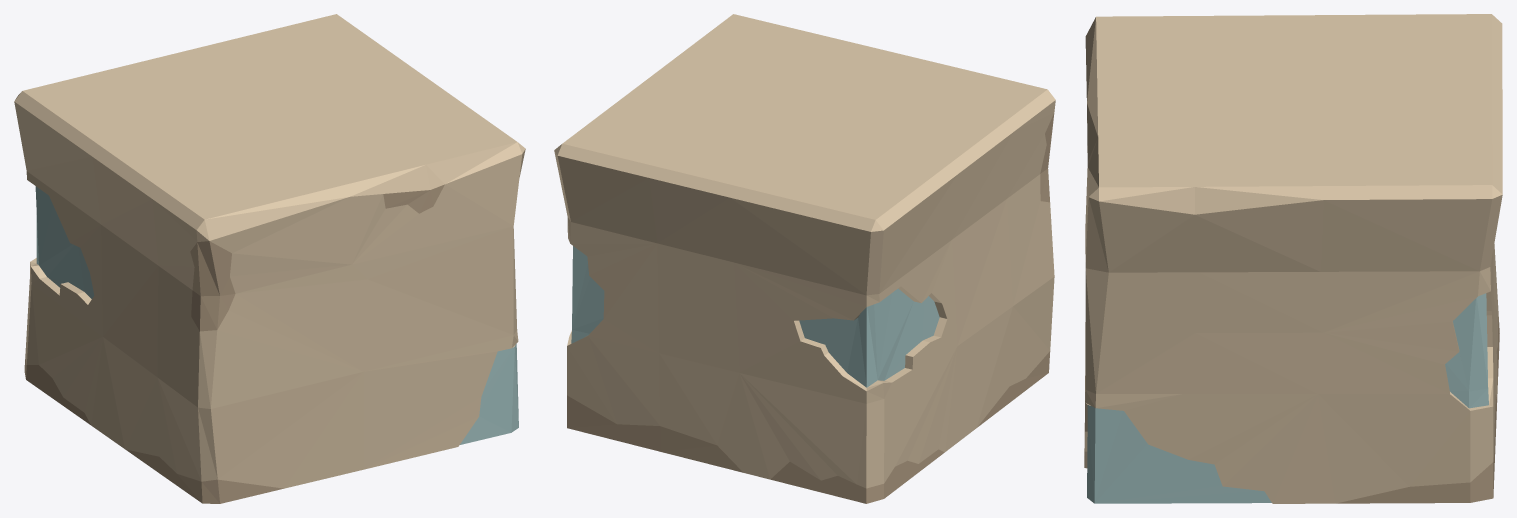
File: SM_Bld_Village_04.fbx
3 views of the same model, side by side, from view 1: azimuth 30°, elevation 25°; view 2: azimuth 150°, elevation 25°; view 3: azimuth 270°, elevation 25° (orthographic). The views are drawn at different scales.
Visible parts, largest first — view 1: SM_Bld_Village_04; view 2: SM_Bld_Village_04; view 3: SM_Bld_Village_04.
Boxes of the visible parts, bbox=[...] form: SM_Bld_Village_04: bbox=[14, 14, 525, 503]; SM_Bld_Village_04: bbox=[554, 14, 1055, 503]; SM_Bld_Village_04: bbox=[1084, 14, 1502, 503].
Size of the model in its own units: 0.0409 by 0.0332 by 0.0397.
1 material, 1 textured.
